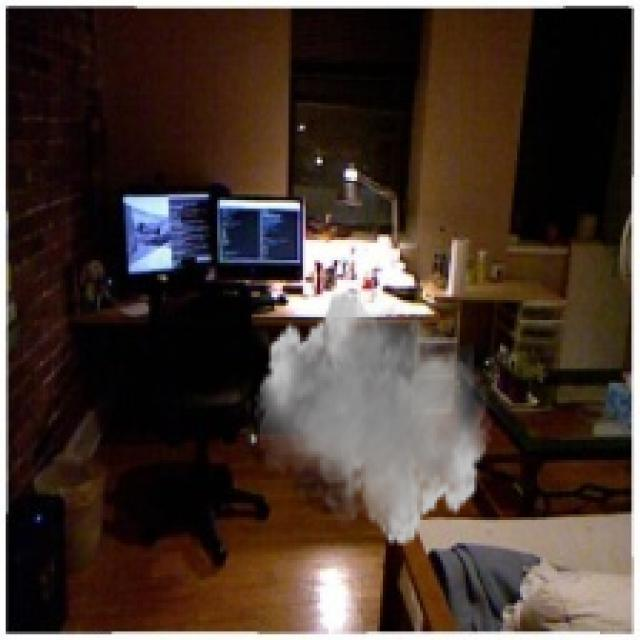Smoke: (254, 288, 492, 548)
